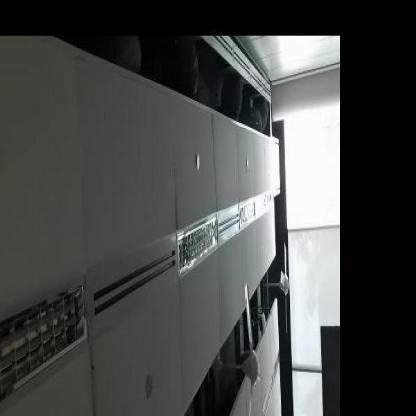light_off: (0, 264, 91, 414), (162, 190, 224, 288)
